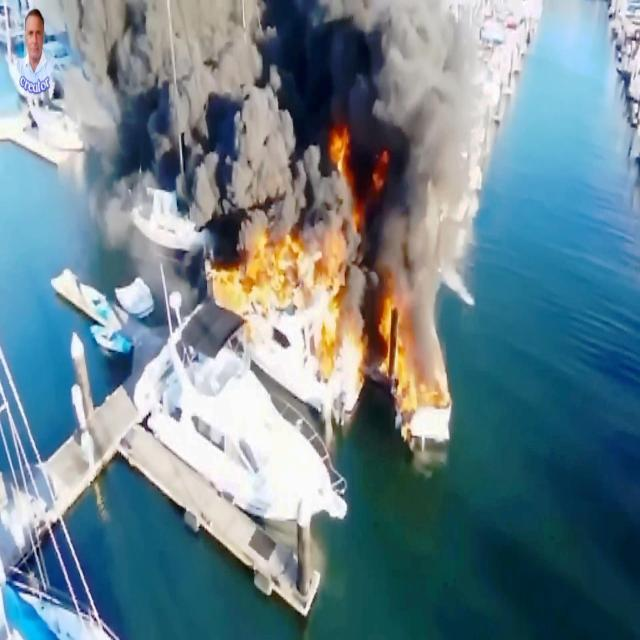Fire: (216, 237, 292, 343), (308, 230, 352, 358), (371, 306, 417, 403)
Smoke: (79, 0, 293, 181), (312, 0, 487, 184)
